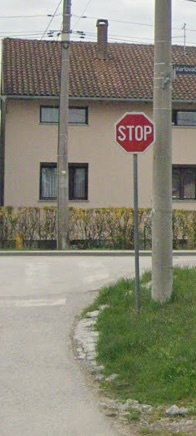Obavezno zaustavljanje: (114, 112, 155, 154)
